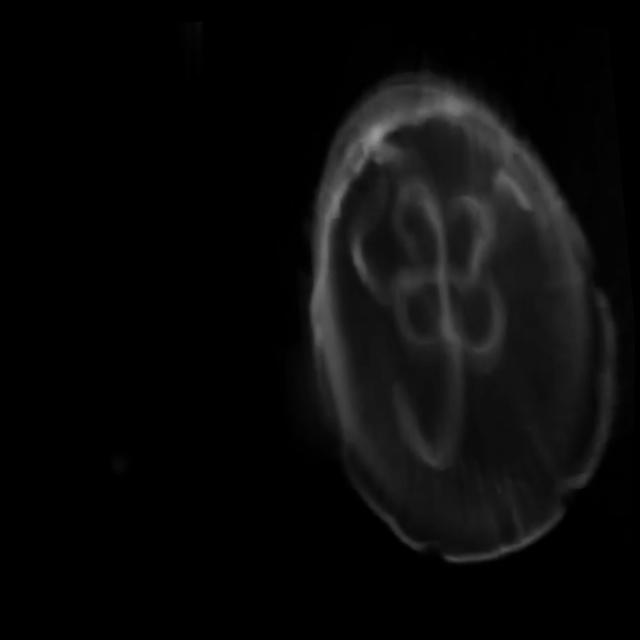Moon-jellyfish: (309, 65, 618, 556)
